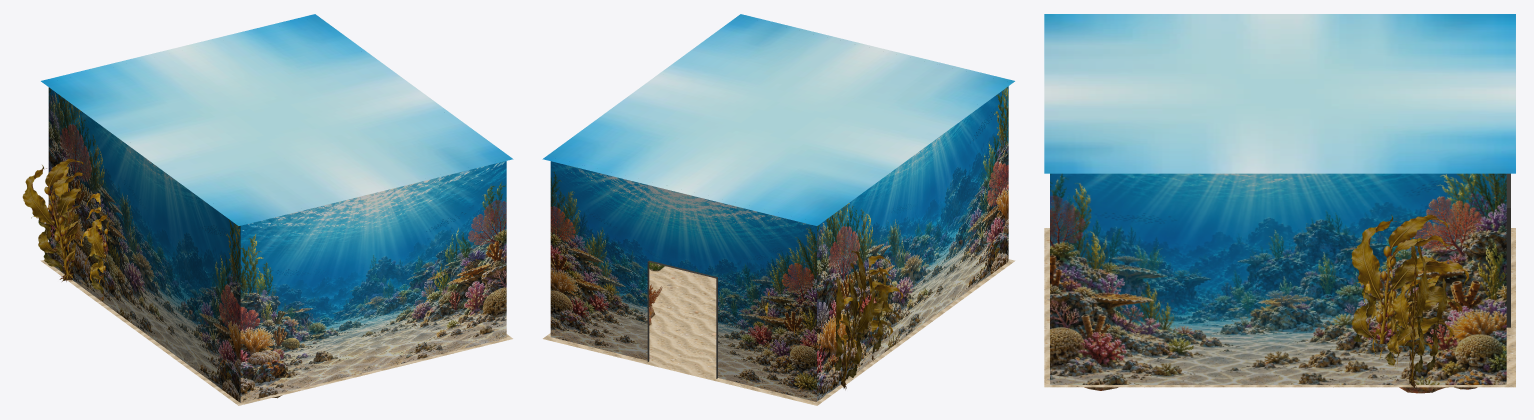
Rendered from aquarium.glb.
The picture shows the model from 3 angles, left to right: view 1: azimuth 30°, elevation 25°; view 2: azimuth 150°, elevation 25°; view 3: azimuth 270°, elevation 25°; orthographic projection. The views are drawn at different scales.
Parts seen in each view (by area): view 1: Mural.aquarium.ceiling, Mural.aquarium.back, Mural.aquarium.right, Card.aquarium.plants-0, Floor; view 2: Mural.aquarium.ceiling, Mural.aquarium.front, Mural.aquarium.right, Floor, Card.aquarium.plants-0, Trim; view 3: Mural.aquarium.left, Mural.aquarium.ceiling, Card.aquarium.plants-0, Floor, Trim.
Part boxes in pixels (x1,y1,x2,y2): Mural.aquarium.ceiling: (41,14,513,225); Mural.aquarium.back: (240,161,506,402); Mural.aquarium.right: (48,87,240,402); Card.aquarium.plants-0: (22,158,108,301); Floor: (40,260,512,405); Mural.aquarium.ceiling: (542,14,1014,225); Mural.aquarium.front: (550,161,816,401); Mural.aquarium.right: (817,86,1008,401); Floor: (543,259,1015,405); Card.aquarium.plants-0: (765,250,903,389); Trim: (647,260,717,378); Mural.aquarium.left: (1050,173,1506,384); Mural.aquarium.ceiling: (1044,14,1515,173); Card.aquarium.plants-0: (1351,214,1469,389); Floor: (1044,228,1515,387); Trim: (1506,173,1510,327).
Size of the model in its own units: 10.41 by 5.24 by 10.08.
17 materials, 11 textured.
